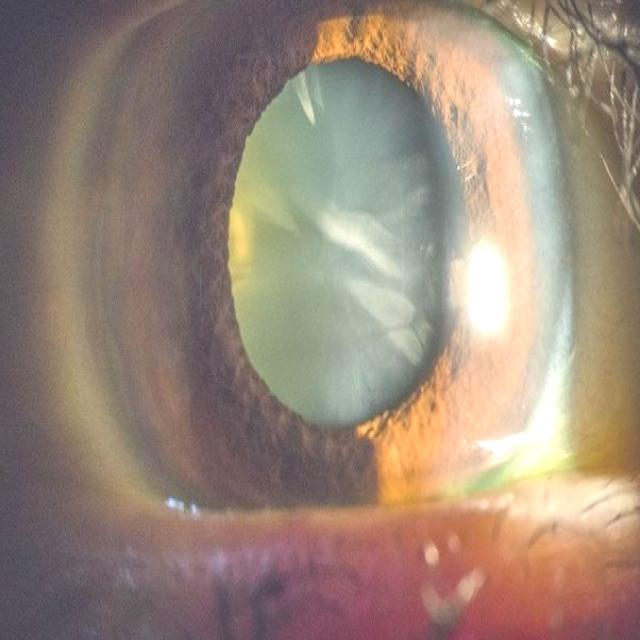Cataract: (119, 33, 574, 535)
